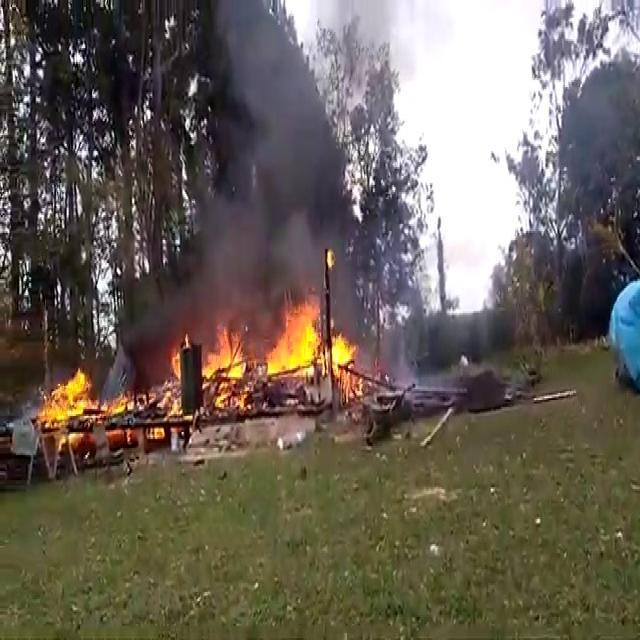Fire: (265, 297, 321, 379), (202, 320, 248, 380), (331, 327, 356, 377), (60, 364, 89, 396), (168, 345, 182, 377)
Smoke: (217, 0, 331, 186), (331, 0, 414, 117), (272, 205, 318, 293), (218, 118, 255, 196), (392, 336, 420, 386)
